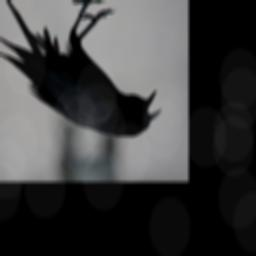Crow: (0, 0, 162, 138)
